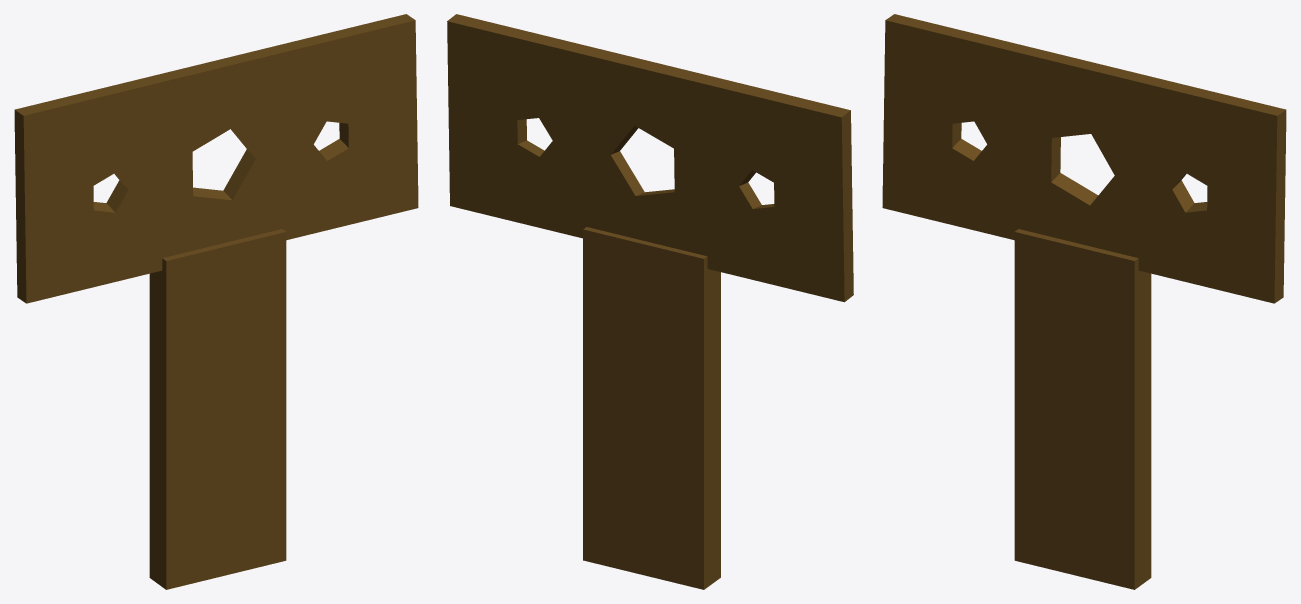
Rendered from mesh_pillory.fbx.
3 views of the same model, side by side, from view 1: azimuth 30°, elevation 25°; view 2: azimuth 150°, elevation 25°; view 3: azimuth 330°, elevation 25° (orthographic).
Parts seen in each view (by area): view 1: pillory; view 2: pillory; view 3: pillory.
Part boxes in pixels (left/top/right/bottom): pillory: left=14, top=14, right=418, bottom=589; pillory: left=447, top=14, right=853, bottom=589; pillory: left=882, top=14, right=1286, bottom=589.
Size of the model in its own units: 1.25 by 1.53 by 0.0919.
1 material, 1 textured.
